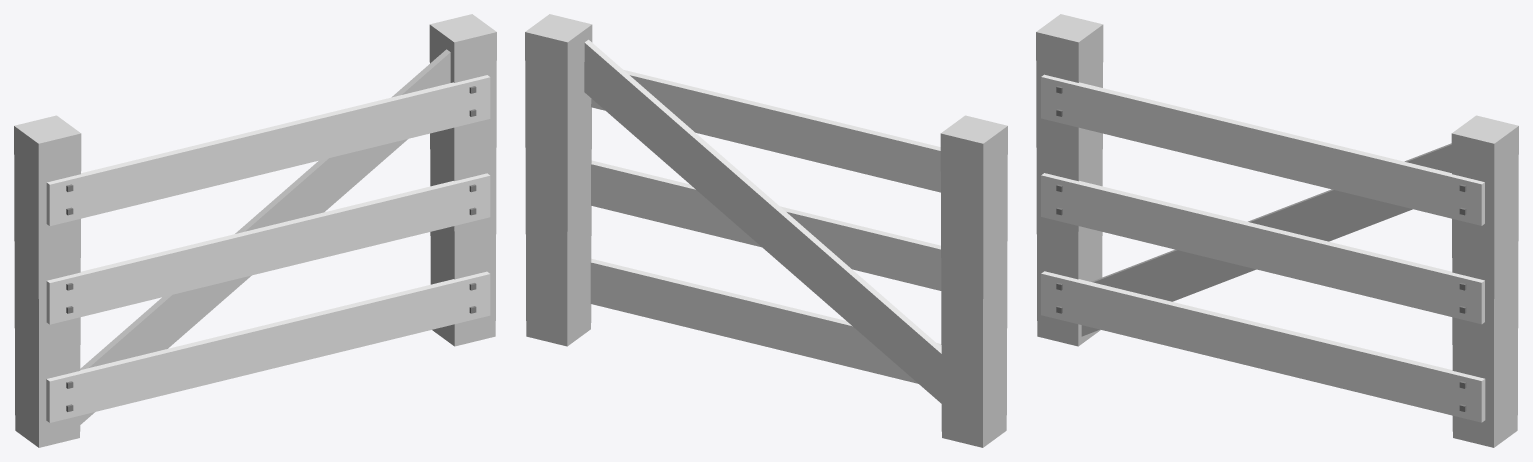
Rendered from Mesh_Props_Arch_07.FBX.
3 views of the same model, side by side, from view 1: azimuth 30°, elevation 25°; view 2: azimuth 150°, elevation 25°; view 3: azimuth 330°, elevation 25° (orthographic).
Parts seen in each view (by area): view 1: Mesh_Props_Arch_07; view 2: Mesh_Props_Arch_07; view 3: Mesh_Props_Arch_07.
Boxes of the visible parts, left/top/right/bottom form: Mesh_Props_Arch_07: left=14, top=14, right=496, bottom=447; Mesh_Props_Arch_07: left=525, top=14, right=1007, bottom=447; Mesh_Props_Arch_07: left=1036, top=14, right=1518, bottom=447.
Bounding box in the file's own units: 68.18 × 43.31 × 7.49.
